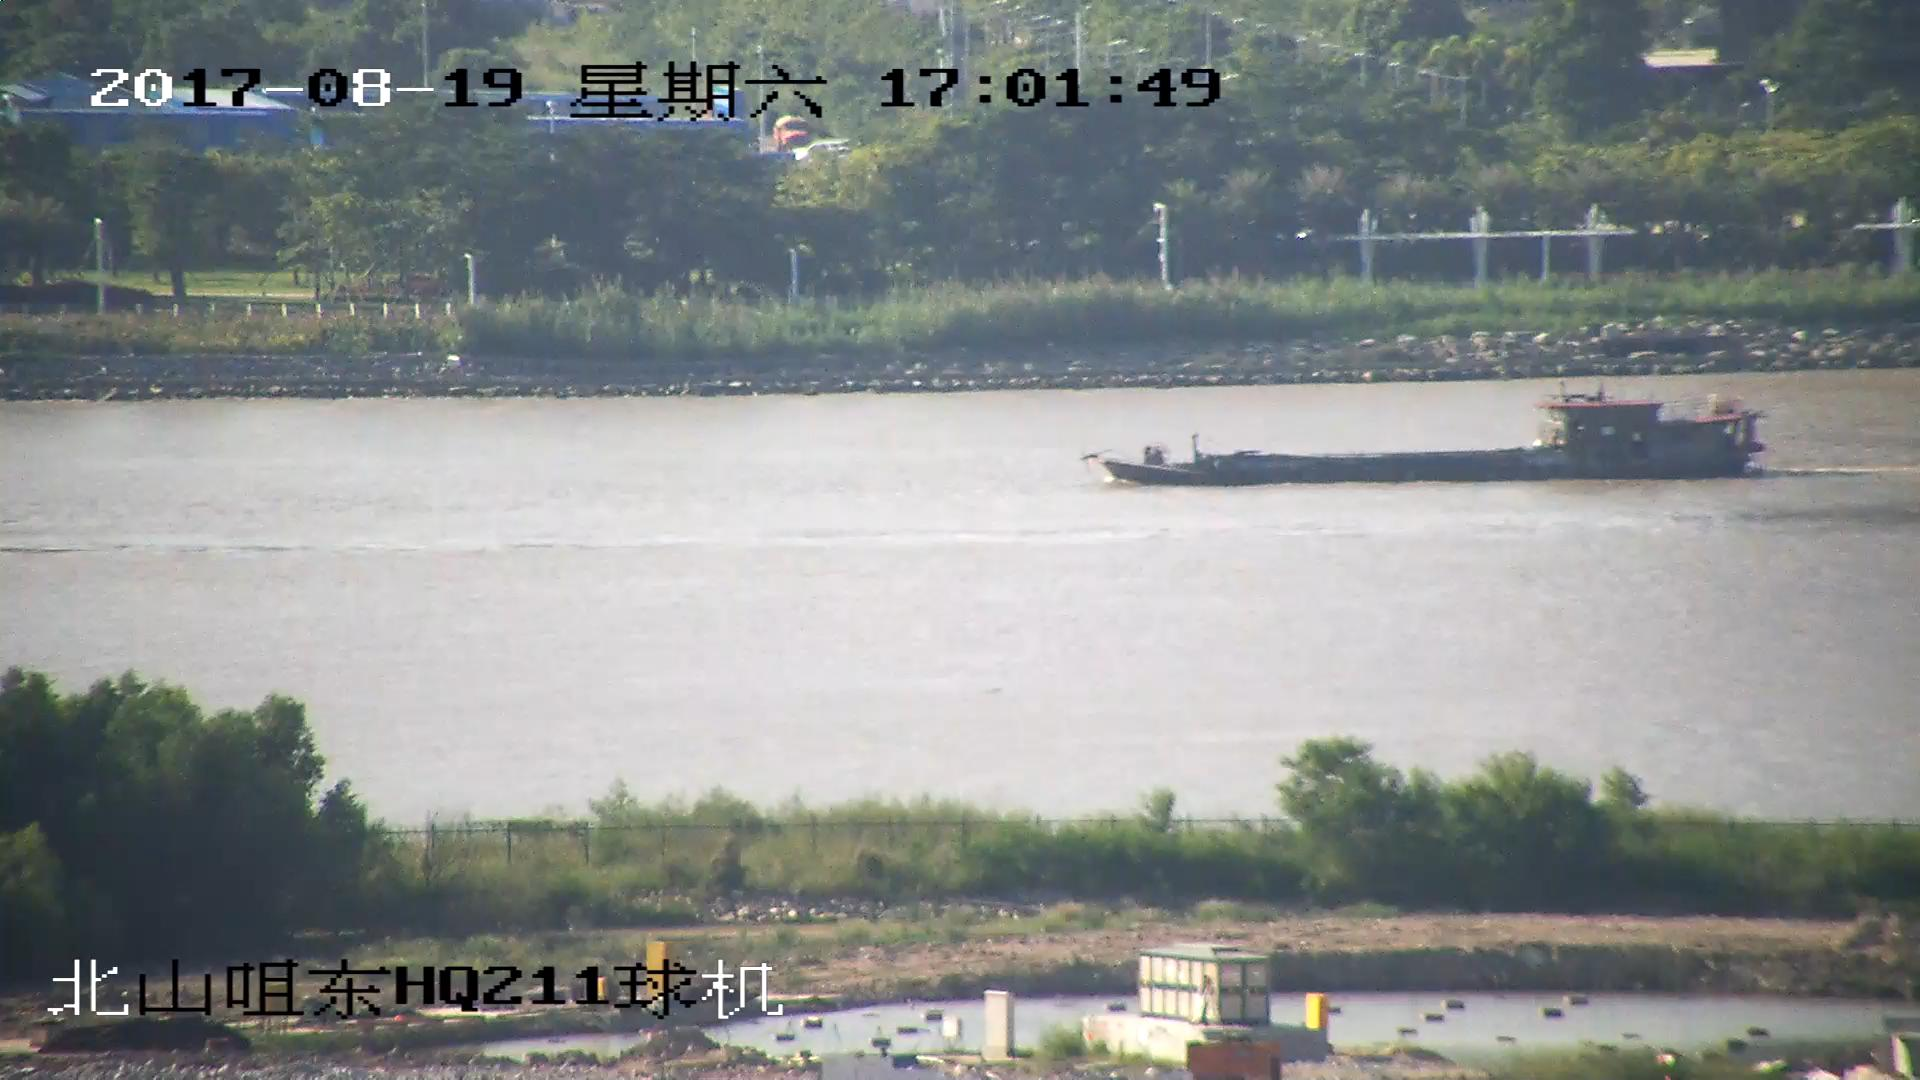fishing boat: (1091, 393, 1765, 484)
